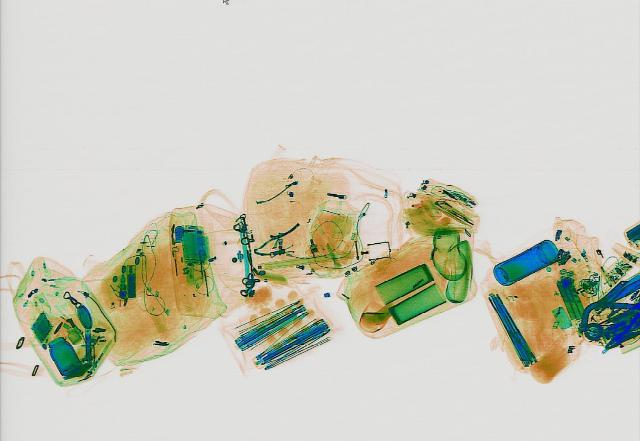Pliers: (597, 325, 639, 352)
